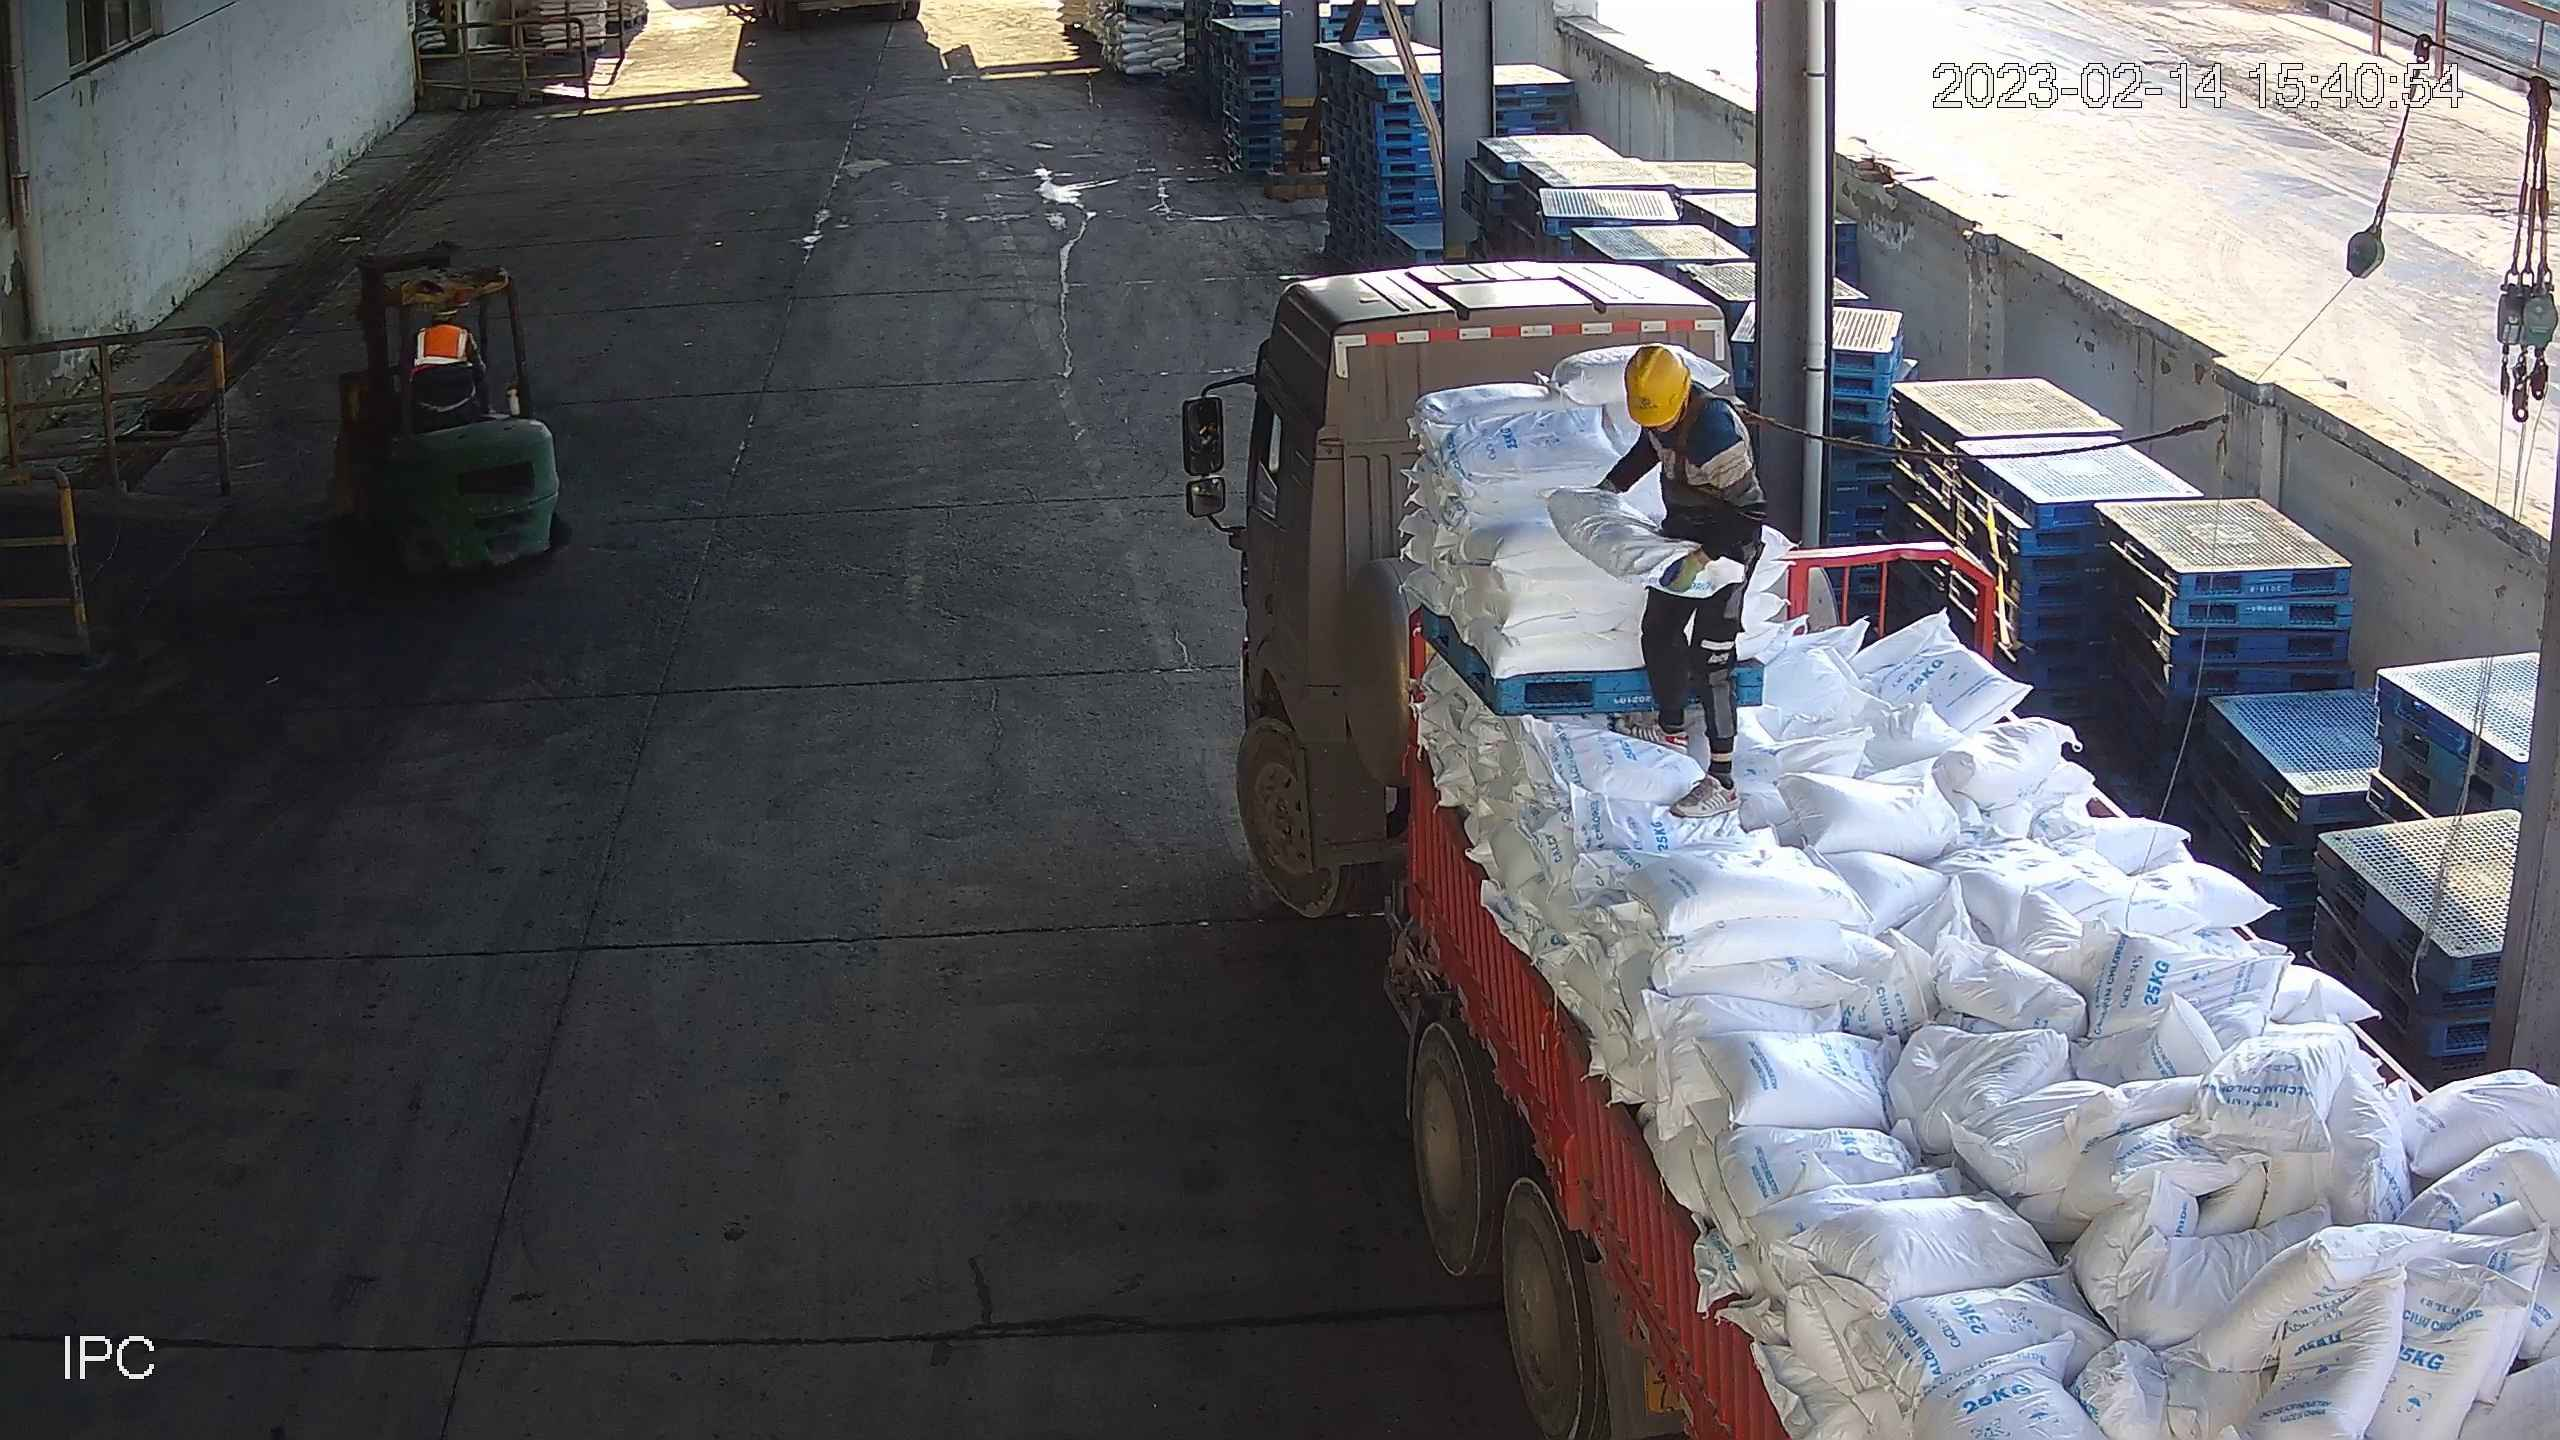belt: (1654, 404, 1742, 501)
head: (1616, 342, 1735, 447), (411, 293, 474, 357)
helmet: (1623, 351, 1704, 425)
people: (1584, 346, 1763, 818)
truck: (1172, 246, 2560, 1440)
